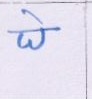e_matra: (21, 9, 47, 26)
